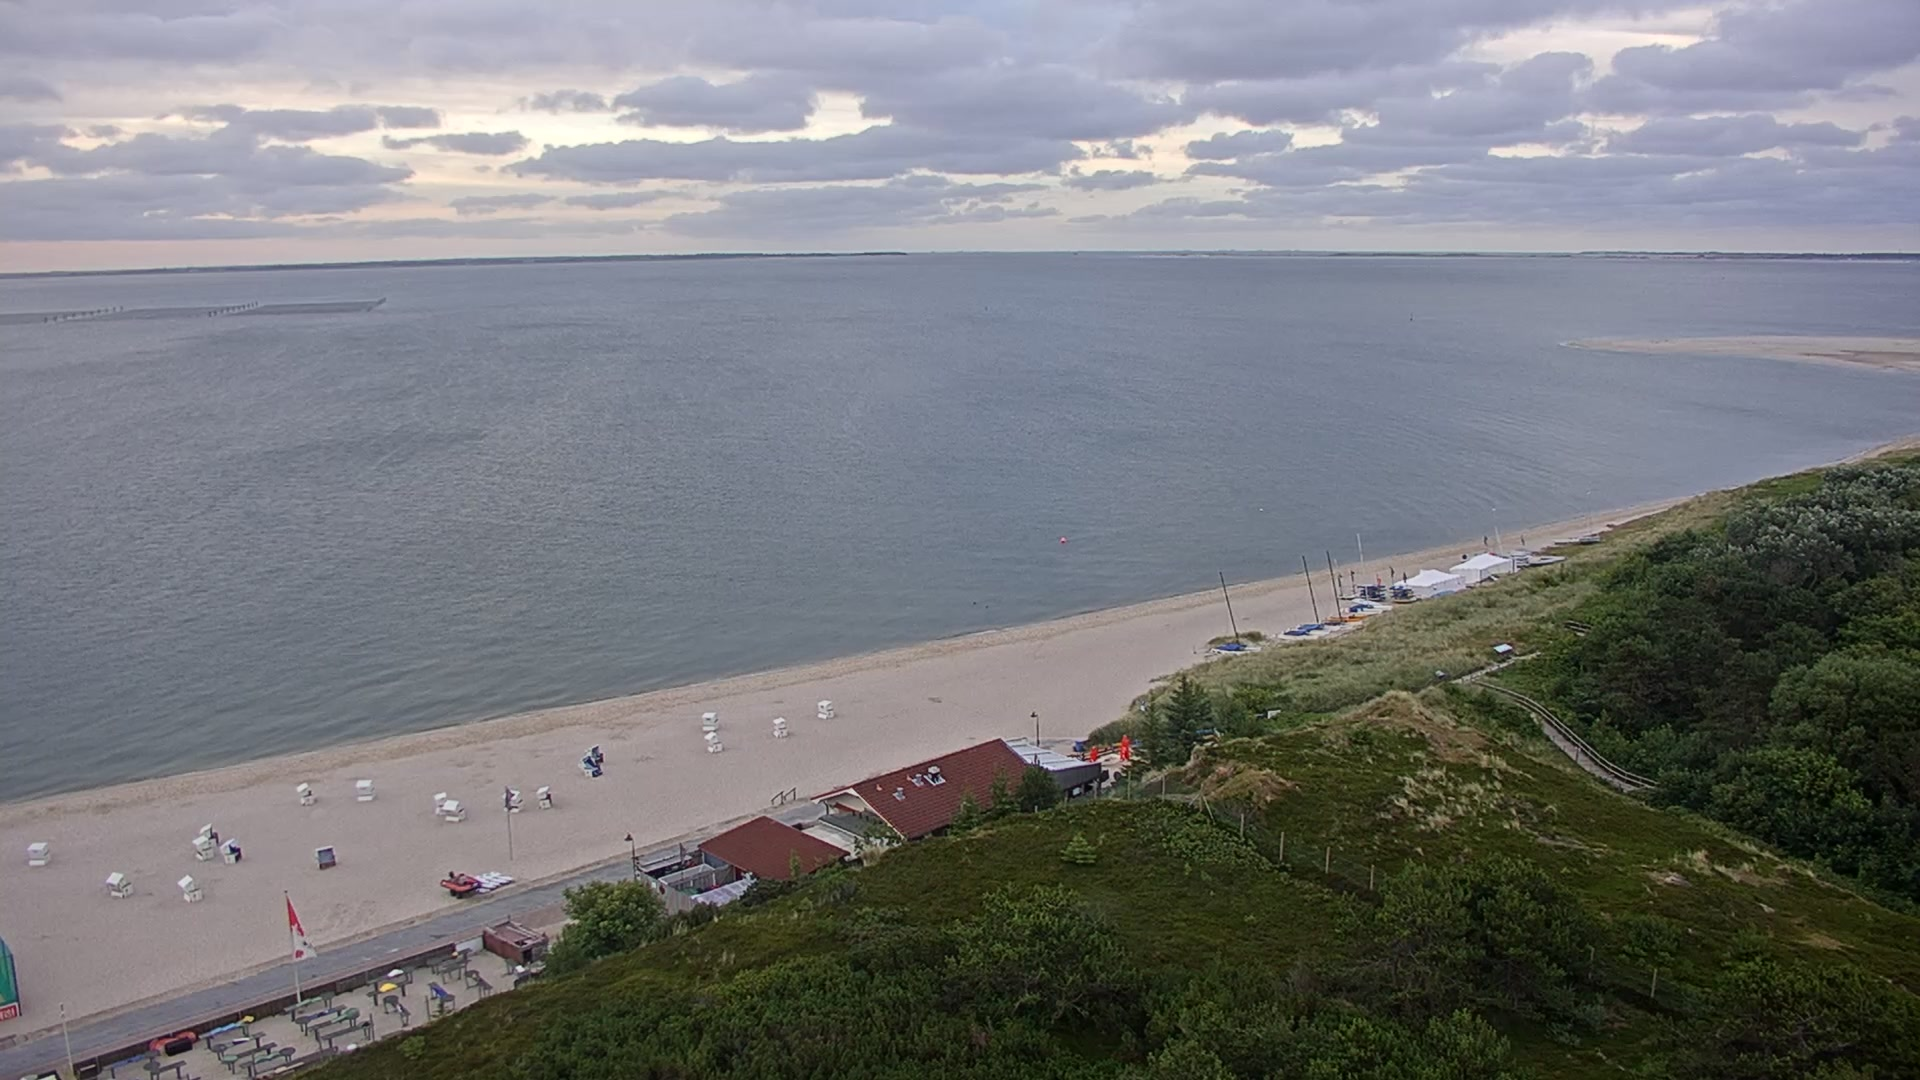sea: (1340, 533, 1393, 617), (1209, 571, 1261, 655), (1290, 554, 1340, 634), (1317, 549, 1360, 632), (439, 870, 483, 893)
